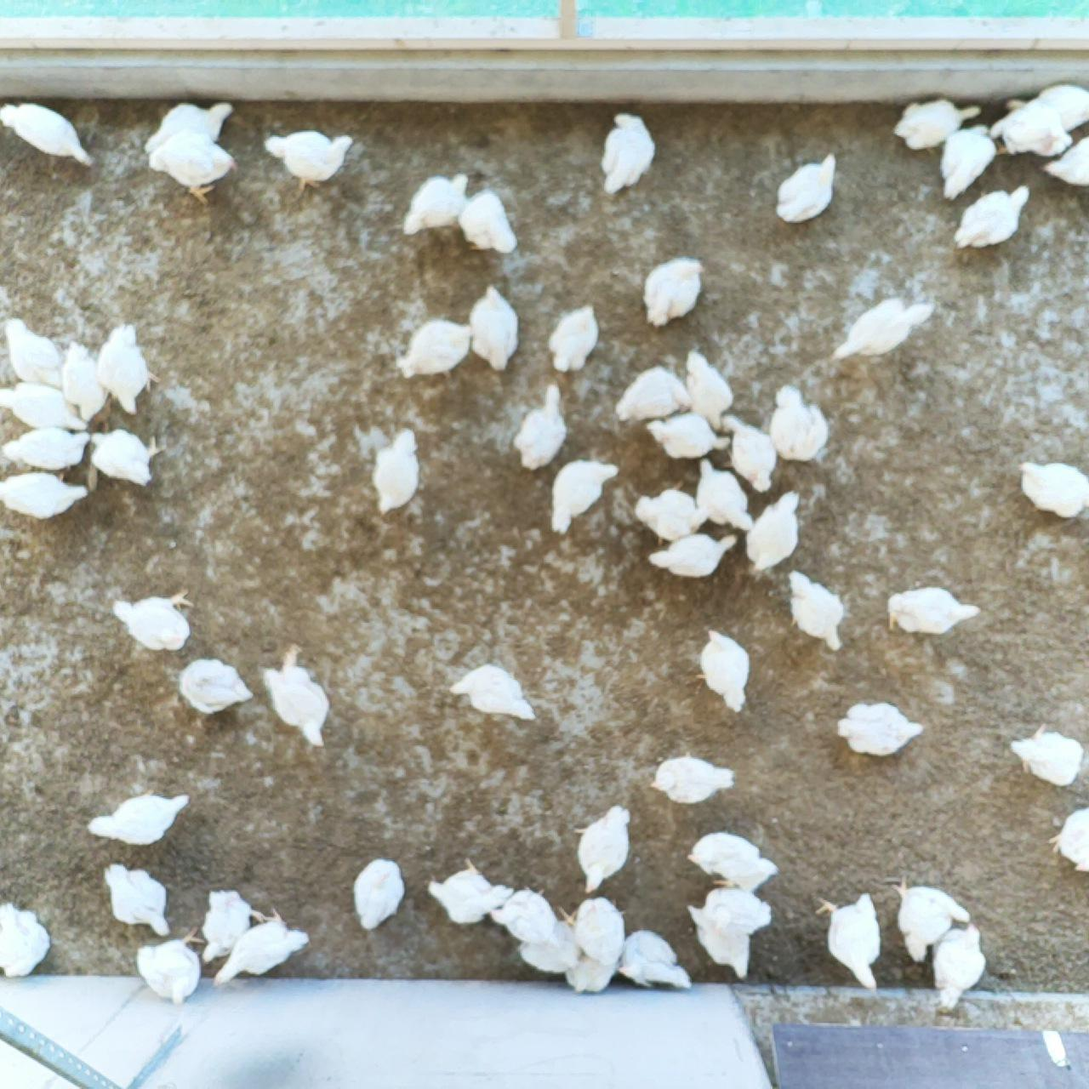chicken: (211, 908, 309, 989), (147, 124, 237, 207), (813, 888, 883, 990), (891, 876, 972, 964), (0, 95, 94, 170), (831, 297, 935, 364), (260, 657, 331, 749), (259, 126, 351, 196), (95, 322, 160, 417), (426, 856, 514, 926), (953, 182, 1033, 257), (108, 586, 198, 652), (689, 827, 776, 895), (143, 96, 235, 160), (547, 457, 620, 537), (134, 929, 207, 1007), (87, 792, 190, 847), (101, 861, 174, 938), (447, 662, 538, 723), (834, 700, 926, 760), (573, 803, 633, 894), (929, 922, 985, 1015), (885, 585, 983, 638), (619, 923, 692, 993), (650, 752, 738, 810), (4, 316, 70, 393), (0, 420, 94, 474), (766, 379, 827, 462), (370, 423, 425, 515), (202, 887, 266, 966), (1013, 455, 1089, 521), (719, 409, 778, 494), (177, 653, 254, 717), (601, 111, 659, 195), (894, 98, 982, 153), (396, 318, 474, 380), (936, 120, 997, 199), (614, 367, 693, 428), (678, 349, 736, 432), (786, 568, 844, 651), (692, 630, 750, 713), (402, 170, 472, 238), (514, 383, 570, 468), (745, 490, 803, 572), (687, 906, 751, 980), (775, 152, 838, 227), (641, 256, 707, 327), (1012, 722, 1083, 788), (634, 481, 707, 545), (1003, 77, 1089, 131), (469, 284, 520, 375), (644, 532, 736, 582), (0, 379, 88, 431), (56, 338, 109, 423), (644, 409, 732, 460), (0, 470, 88, 521), (562, 896, 624, 968), (88, 430, 164, 488), (544, 301, 603, 374), (0, 897, 52, 979), (696, 456, 752, 532), (350, 857, 405, 932), (459, 188, 517, 257), (492, 885, 554, 945), (700, 887, 773, 934), (516, 921, 582, 972), (557, 945, 620, 997), (1046, 800, 1089, 871), (1041, 132, 1089, 187)
